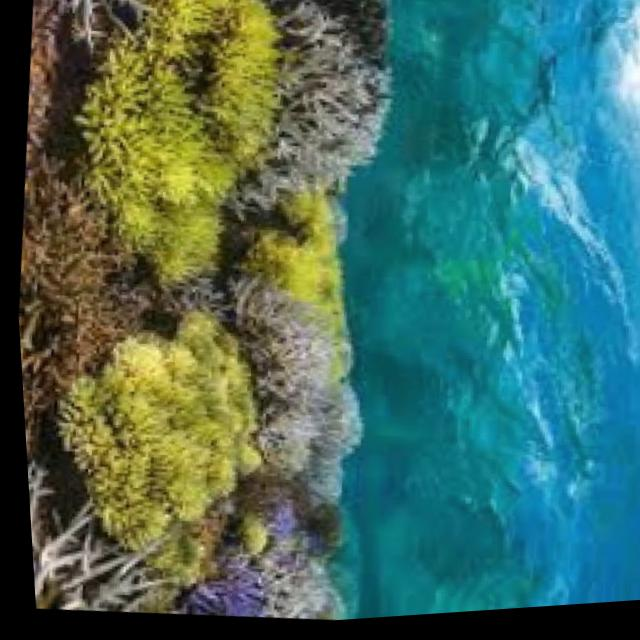Bleached Coral: (271, 378, 366, 488), (305, 59, 392, 176)
Dead Coral: (294, 0, 393, 66)
Healthy Coral: (25, 277, 291, 558), (36, 40, 245, 305), (251, 180, 373, 372), (192, 0, 300, 178), (122, 0, 262, 59), (169, 565, 267, 625), (149, 527, 206, 595), (223, 511, 270, 563)
